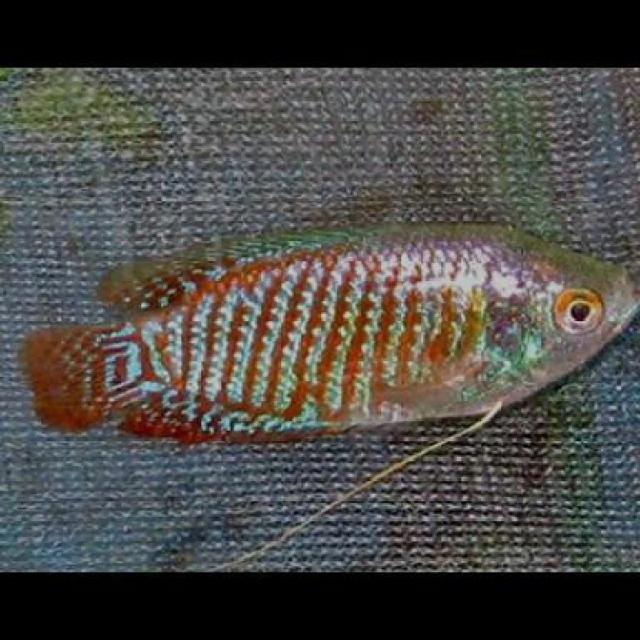Gourami: (23, 215, 639, 450)
